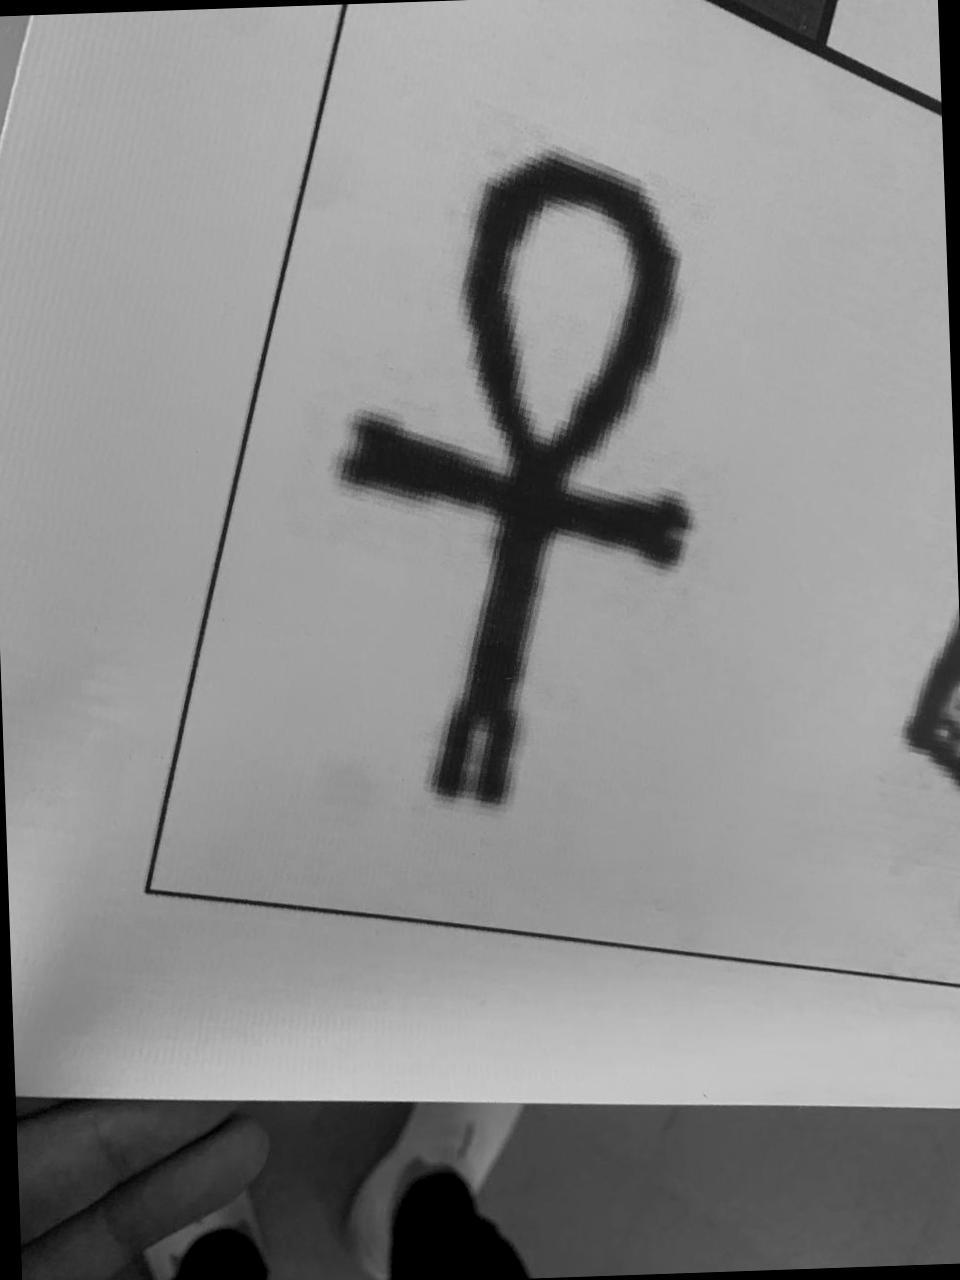Ankh: (334, 138, 690, 810)
